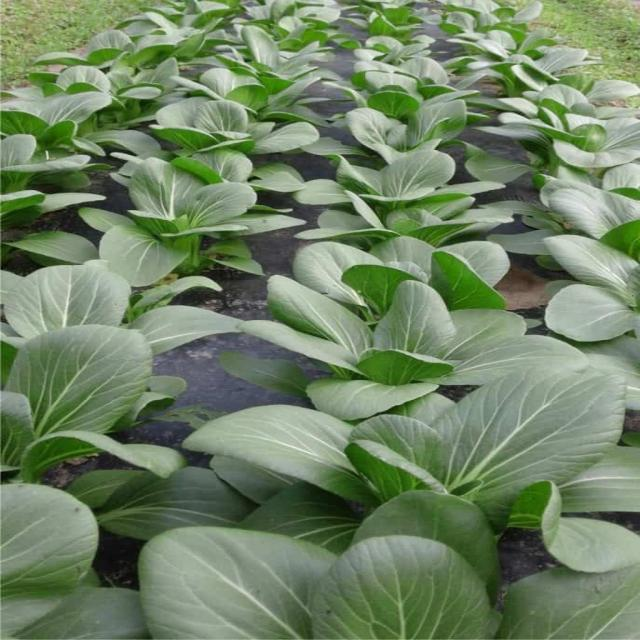pakcoy_sehat: (207, 377, 640, 610)
